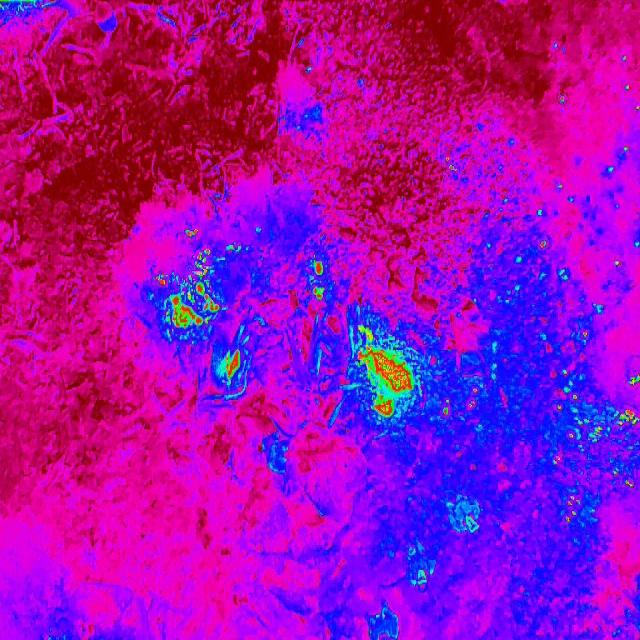fire: (532, 237, 640, 531), (349, 324, 416, 420), (154, 245, 218, 335), (210, 342, 254, 388), (434, 384, 484, 421), (617, 368, 640, 434), (309, 256, 331, 304), (0, 0, 40, 8)
